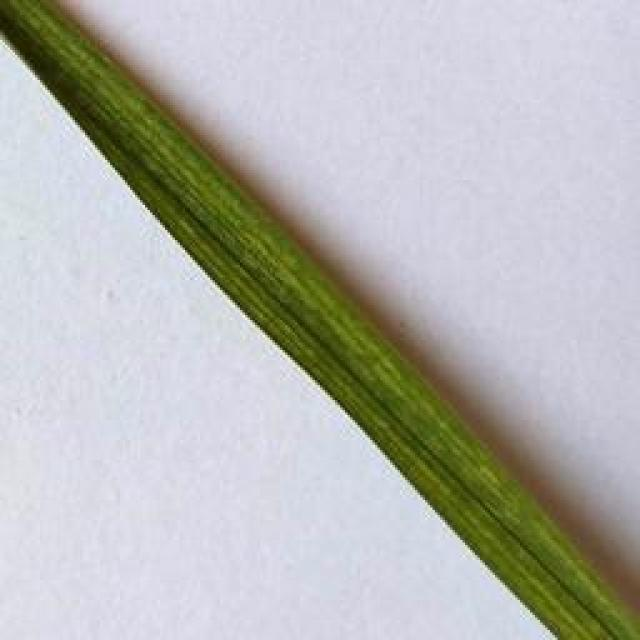Healthy-Plant: (6, 0, 634, 640)
